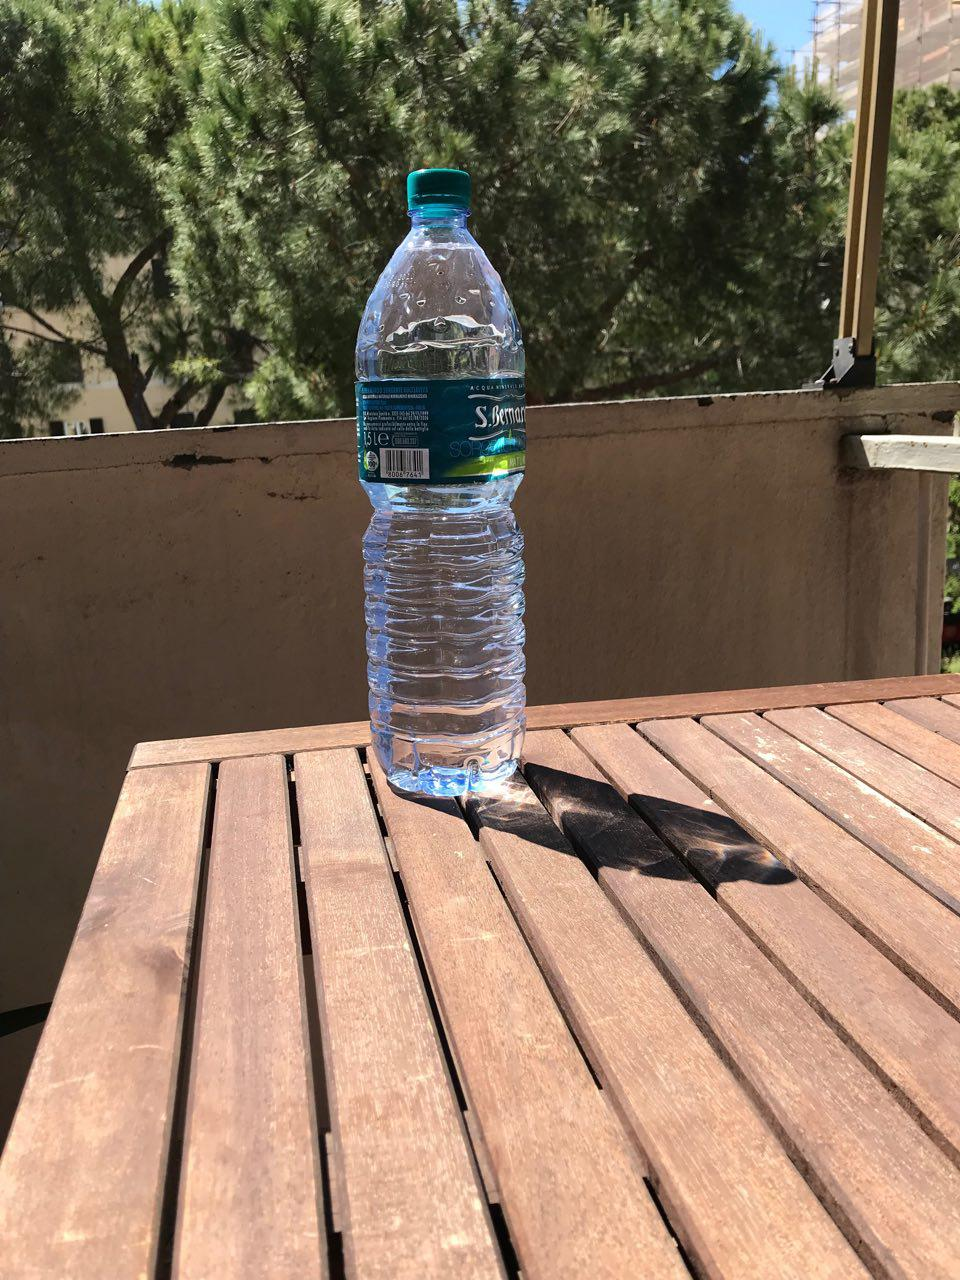san_bernardo: (354, 168, 529, 798)
